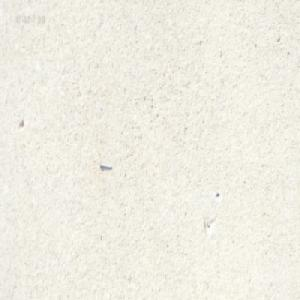Nail: (99, 160, 112, 169)
